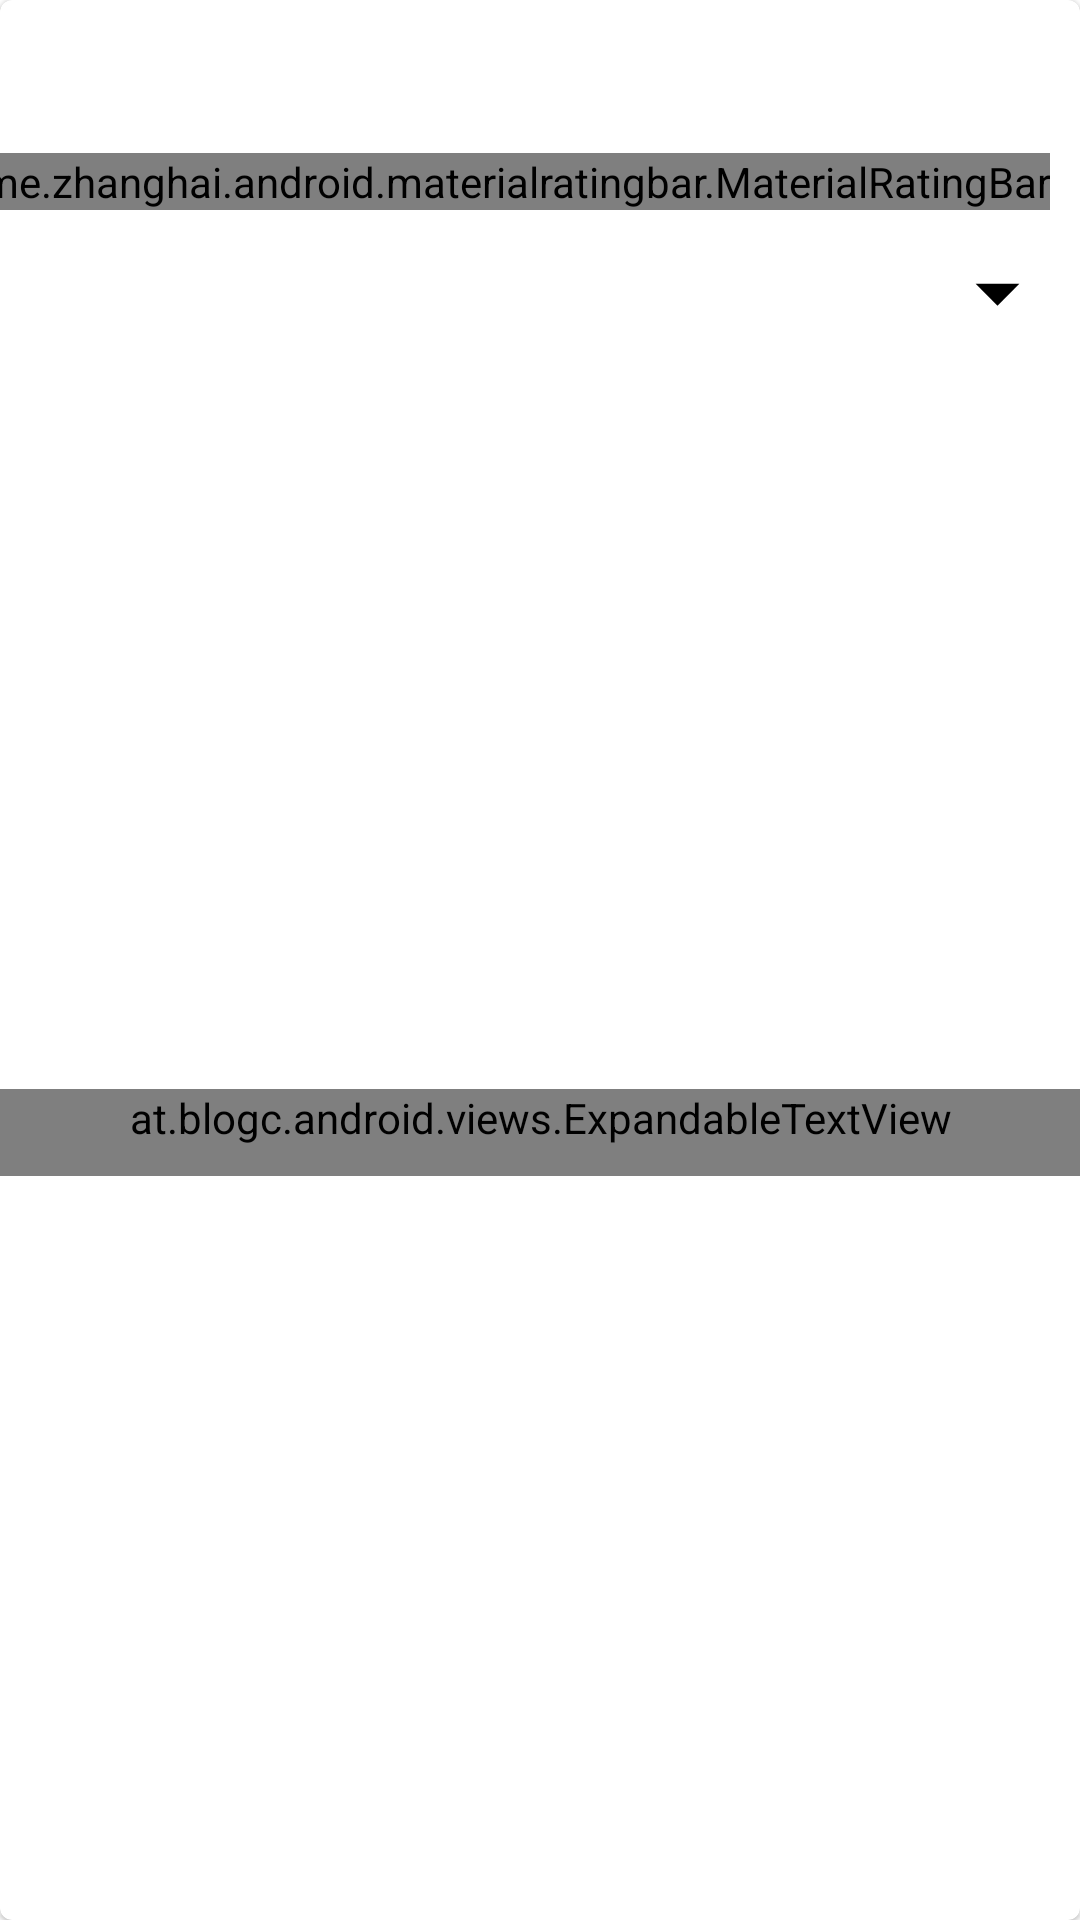

Named icons in this screenshot (1080px x 1920px) and their bounding boxes, (x1, y1, x2, y2):
Expanding arrow: (976, 283, 1019, 306)
